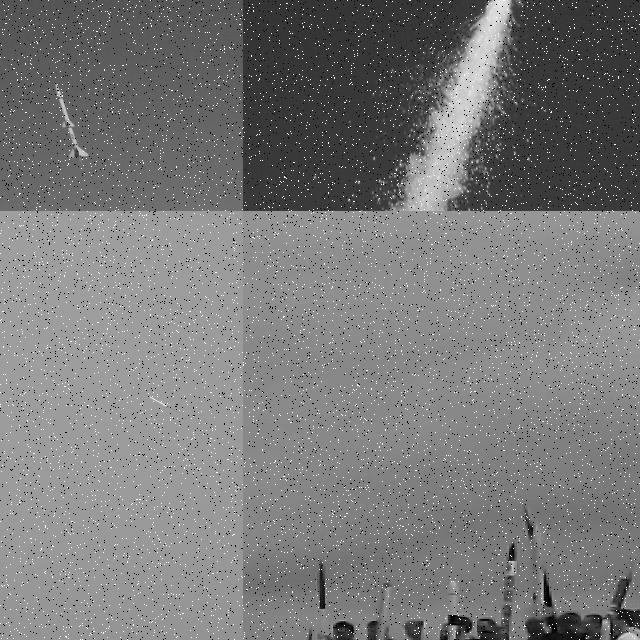Rocket: (523, 505, 558, 633), (593, 555, 635, 640), (491, 539, 519, 640), (54, 83, 89, 159), (529, 523, 554, 620), (355, 581, 395, 640), (312, 556, 332, 640), (443, 579, 459, 640), (294, 625, 316, 640), (599, 618, 614, 640), (149, 396, 171, 409), (418, 619, 428, 640)
